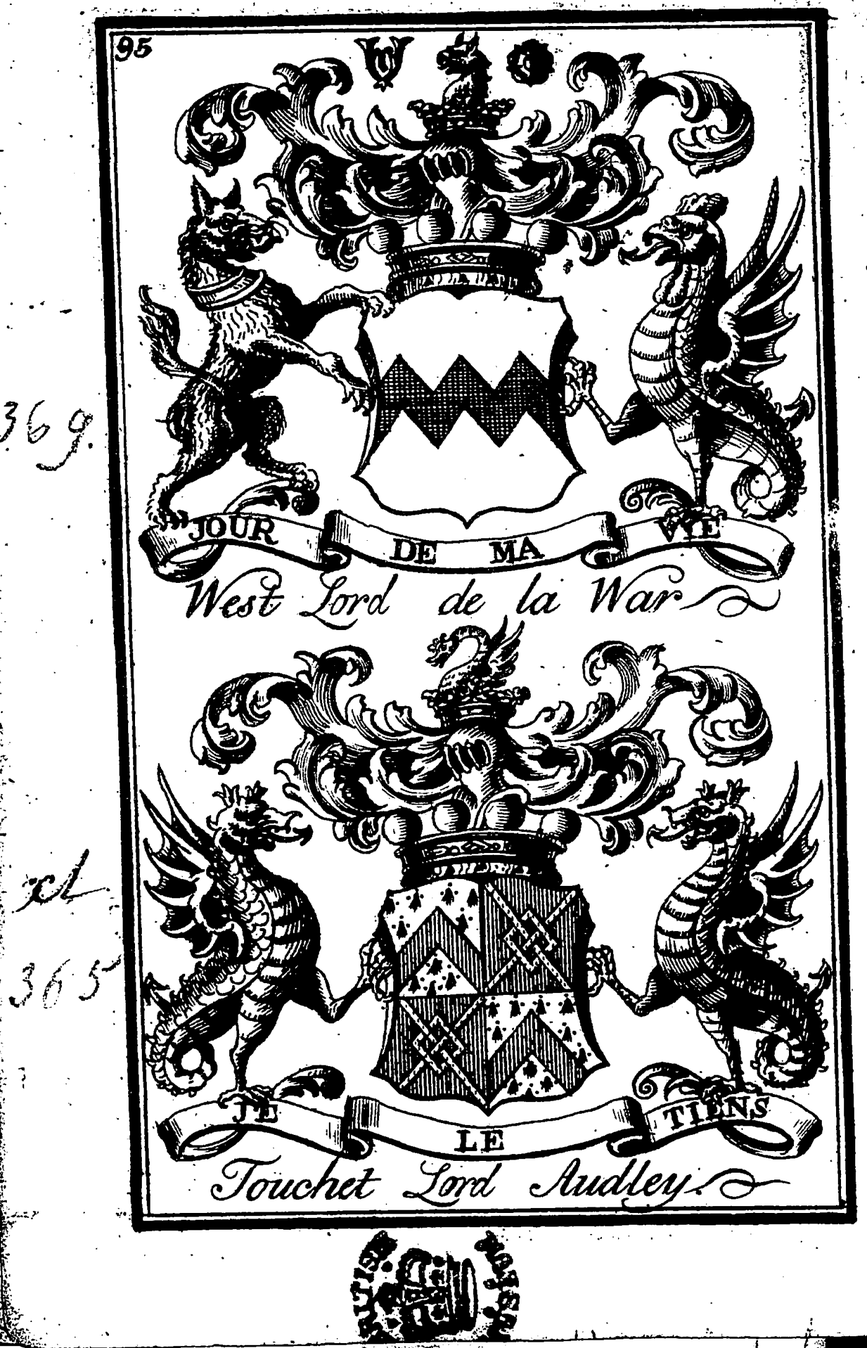coat_of_arms: (121, 36, 818, 629), (133, 628, 841, 1201)
